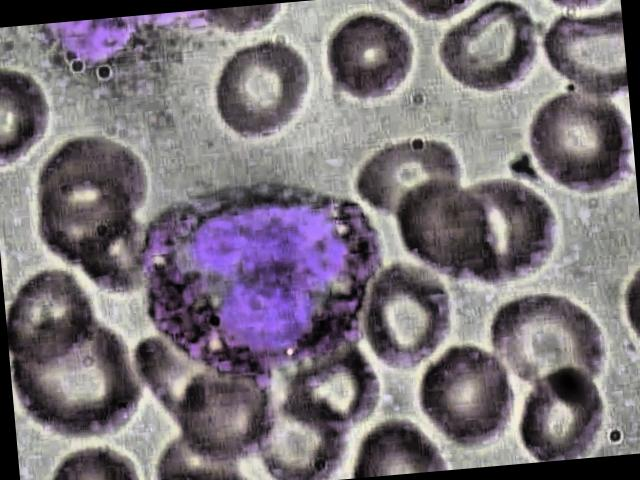RBC: (344, 250, 470, 378), (512, 80, 637, 204), (405, 340, 523, 459), (482, 288, 612, 396), (310, 11, 428, 120), (205, 38, 323, 146), (504, 362, 627, 464), (430, 0, 548, 103), (391, 178, 494, 288), (3, 268, 105, 378), (0, 57, 59, 177)
WBC: (122, 179, 398, 384)
